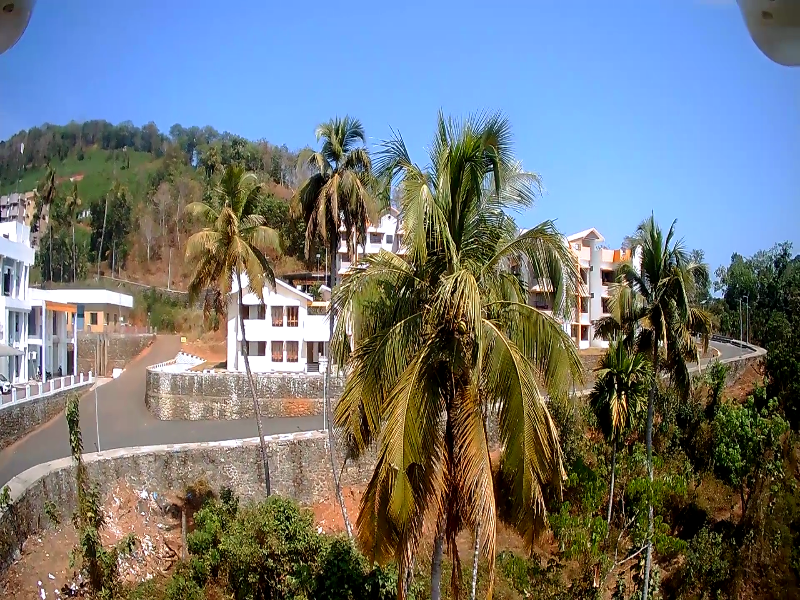coconut: (450, 316, 468, 334)
